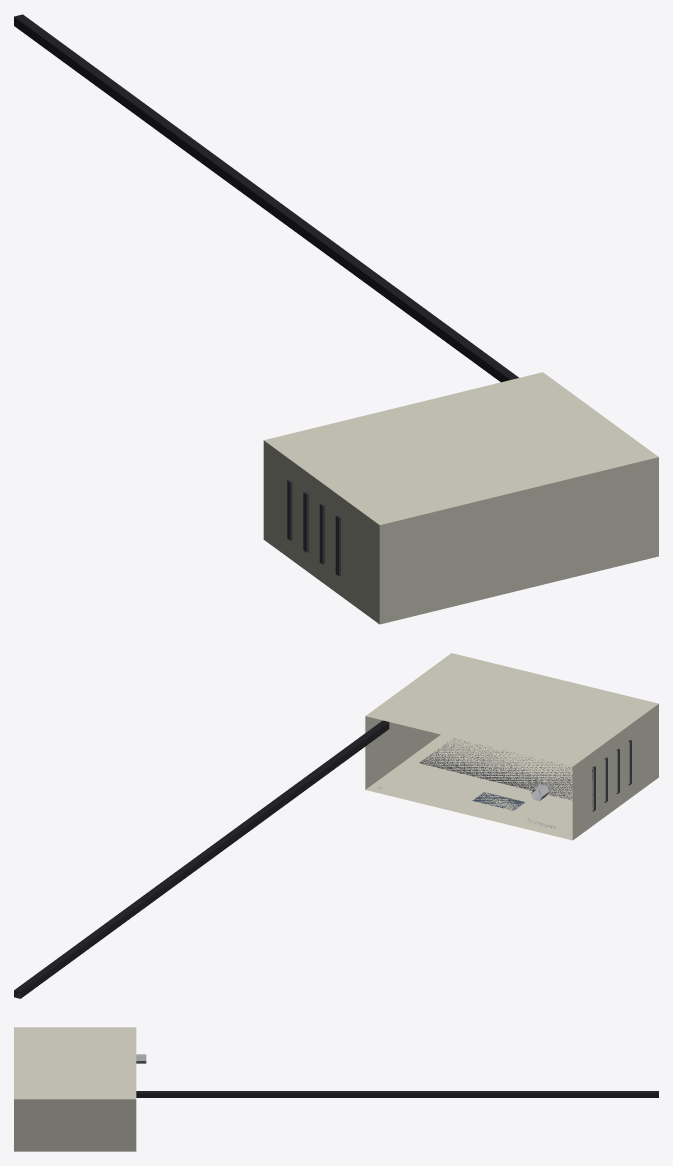
The model's file is c_wdehum.obj.
The picture shows the model from 3 angles, top to bottom: view 1: azimuth 30°, elevation 25°; view 2: azimuth 150°, elevation 25°; view 3: azimuth 270°, elevation 25°; orthographic projection. The views are drawn at different scales.
Size of the model in its own units: 0.504 by 0.204 by 1.9.
Materials: 1 (1 with a texture image).
